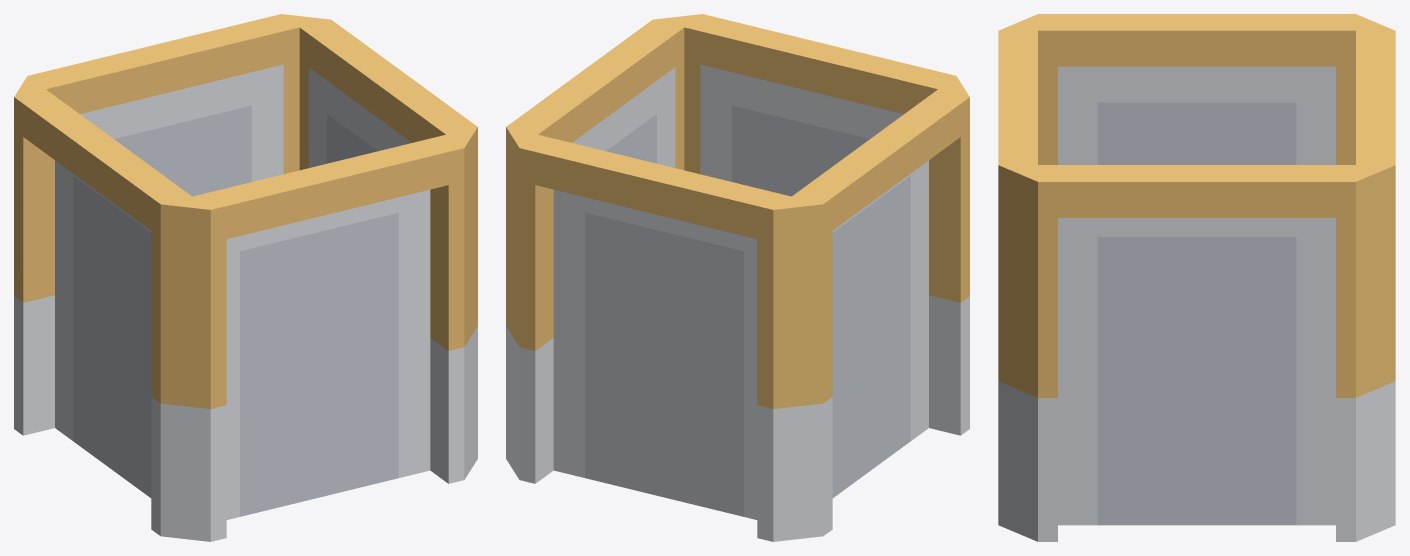
The model's file is structure_closed.glb.
The picture shows the model from 3 angles, left to right: view 1: azimuth 30°, elevation 25°; view 2: azimuth 150°, elevation 25°; view 3: azimuth 270°, elevation 25°; orthographic projection. The views are drawn at different scales.
Visible parts, largest first — view 1: structure_closed; view 2: structure_closed; view 3: structure_closed.
Boxes of the visible parts, bbox=[...] form: structure_closed: bbox=[14, 14, 477, 541]; structure_closed: bbox=[506, 14, 969, 541]; structure_closed: bbox=[998, 14, 1395, 541].
Size of the model in its own units: 1 by 1 by 1.
1 material, 1 textured.
